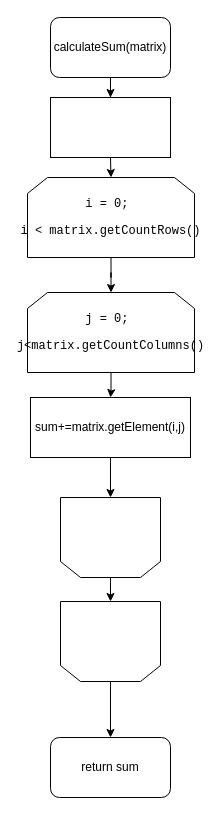
The diagram is 221 pixels wide and 815 high, and some of its shapes have lost their labels. The shapes that lost their labels are listed below. From the top down, each one's centre as x and y in pixels, then its label:
the point at 110,127: sum = 0
the point at 110,537: j++
the point at 110,641: i++
